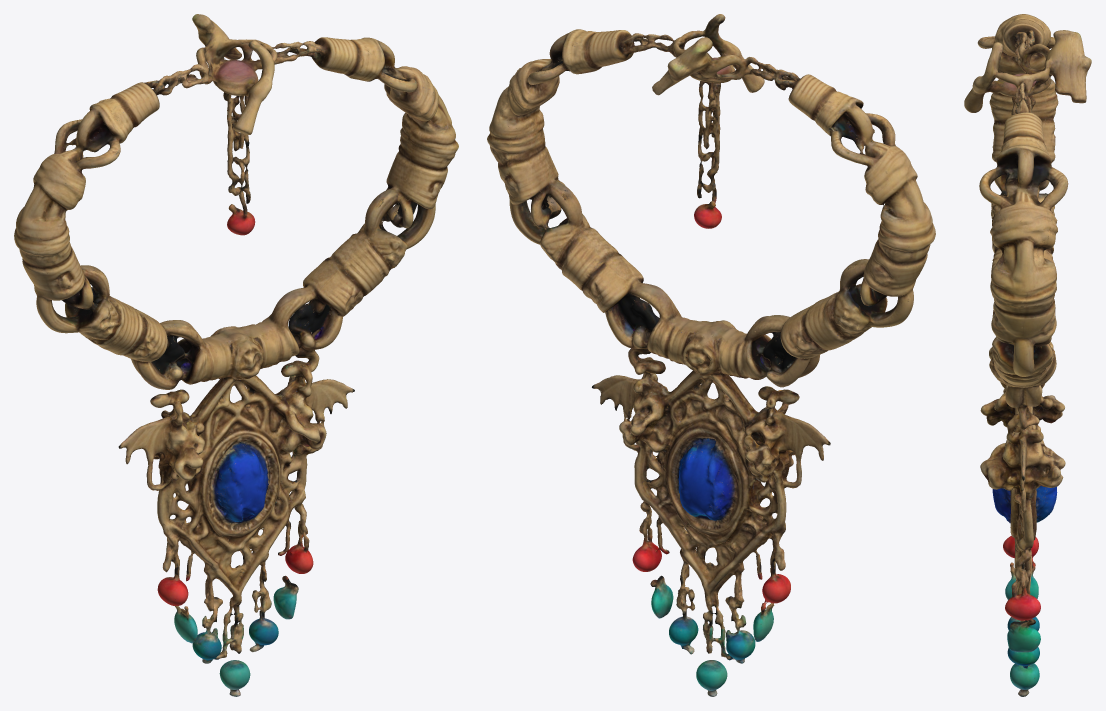
The model's file is Collar.glb.
The picture shows the model from 3 angles, left to right: view 1: azimuth 30°, elevation 25°; view 2: azimuth 150°, elevation 25°; view 3: azimuth 270°, elevation 25°; orthographic projection. The views are drawn at different scales.
Bounding box in the file's own units: 1.36 × 2 × 0.3509.
Materials: 1 (1 with a texture image).
